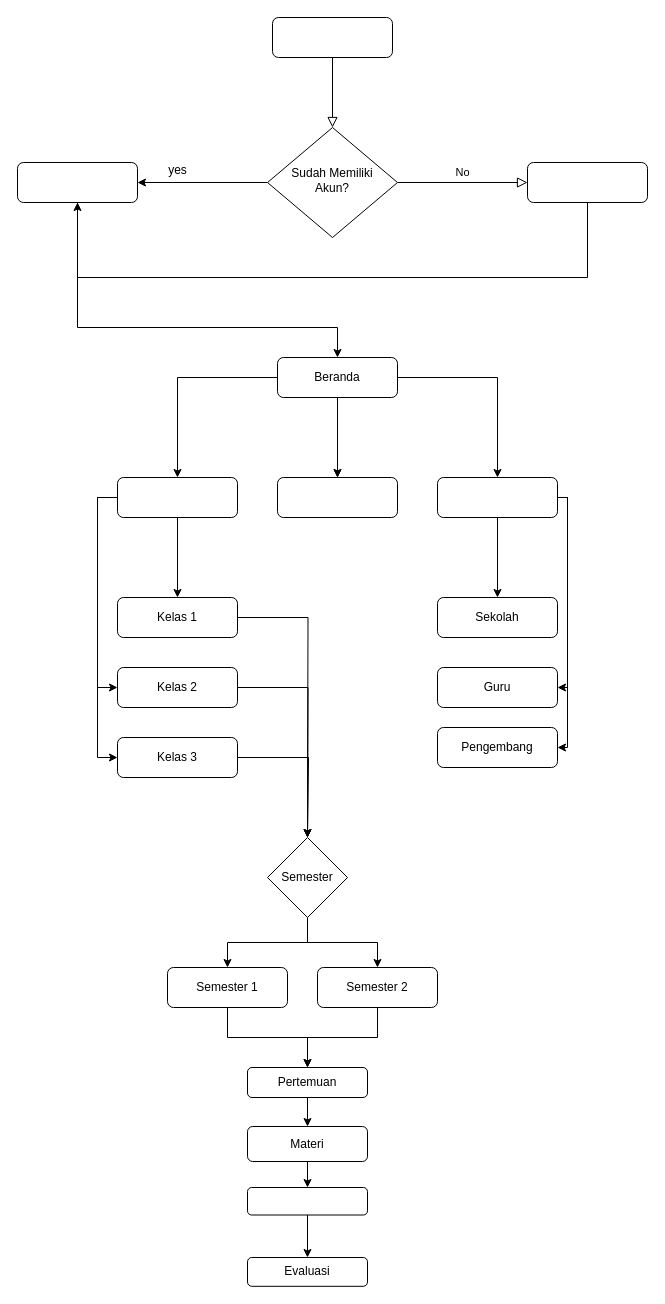
Image size: 665x1304. Some labels were removed from this diagram. The shapes that lost their labels are listed below. From the top down, each one's centre as x and y in pixels, then its label:
At (x=332, y=37): "Mulai".
At (x=77, y=182): "Login".
At (x=587, y=182): "Daftar".
At (x=177, y=497): "Kelas".
At (x=337, y=497): "Repository".
At (x=497, y=497): "Profile".
At (x=307, y=1200): "Quiz".
